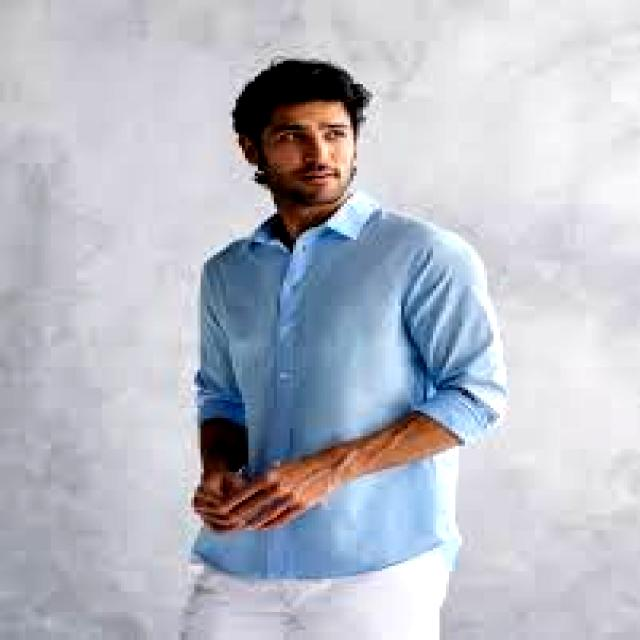face: (239, 100, 356, 206)
lower-wear: (182, 551, 448, 639)
top-wear: (195, 192, 506, 476)
